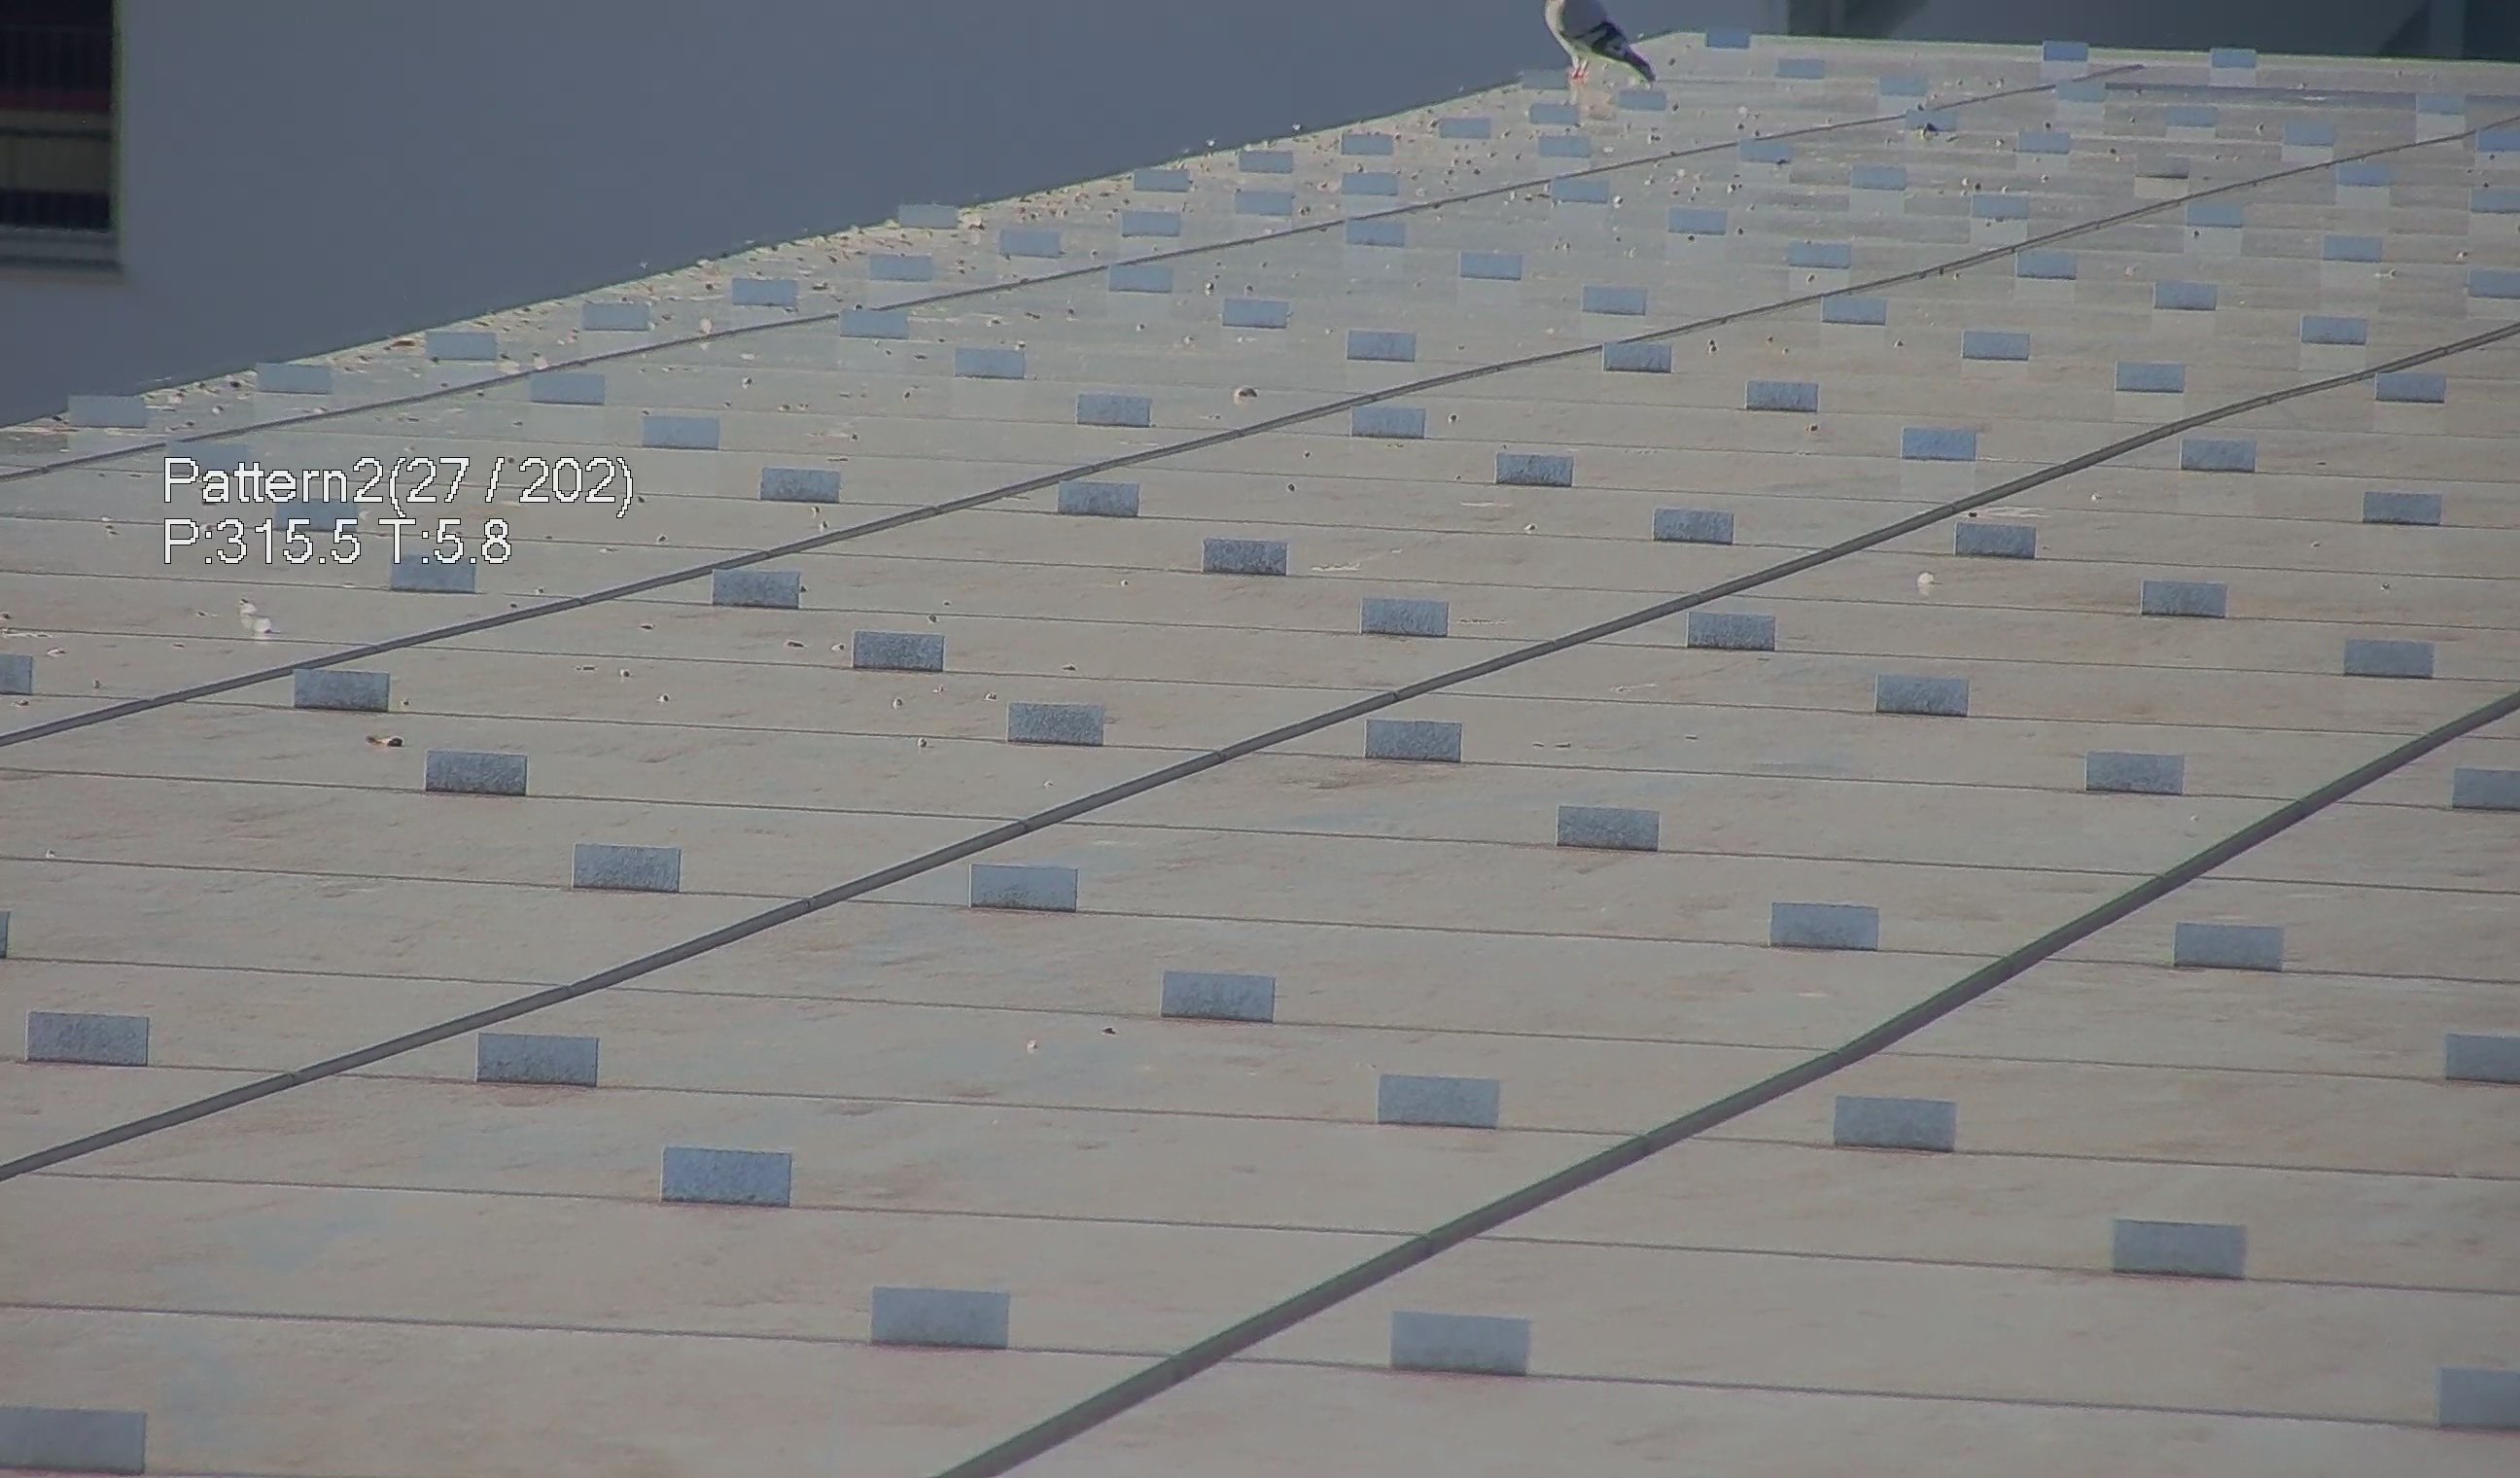Pigeon: (1537, 0, 1681, 107)
